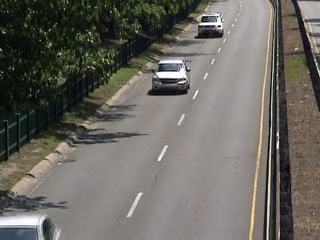car: (149, 57, 193, 99), (195, 11, 227, 41)
